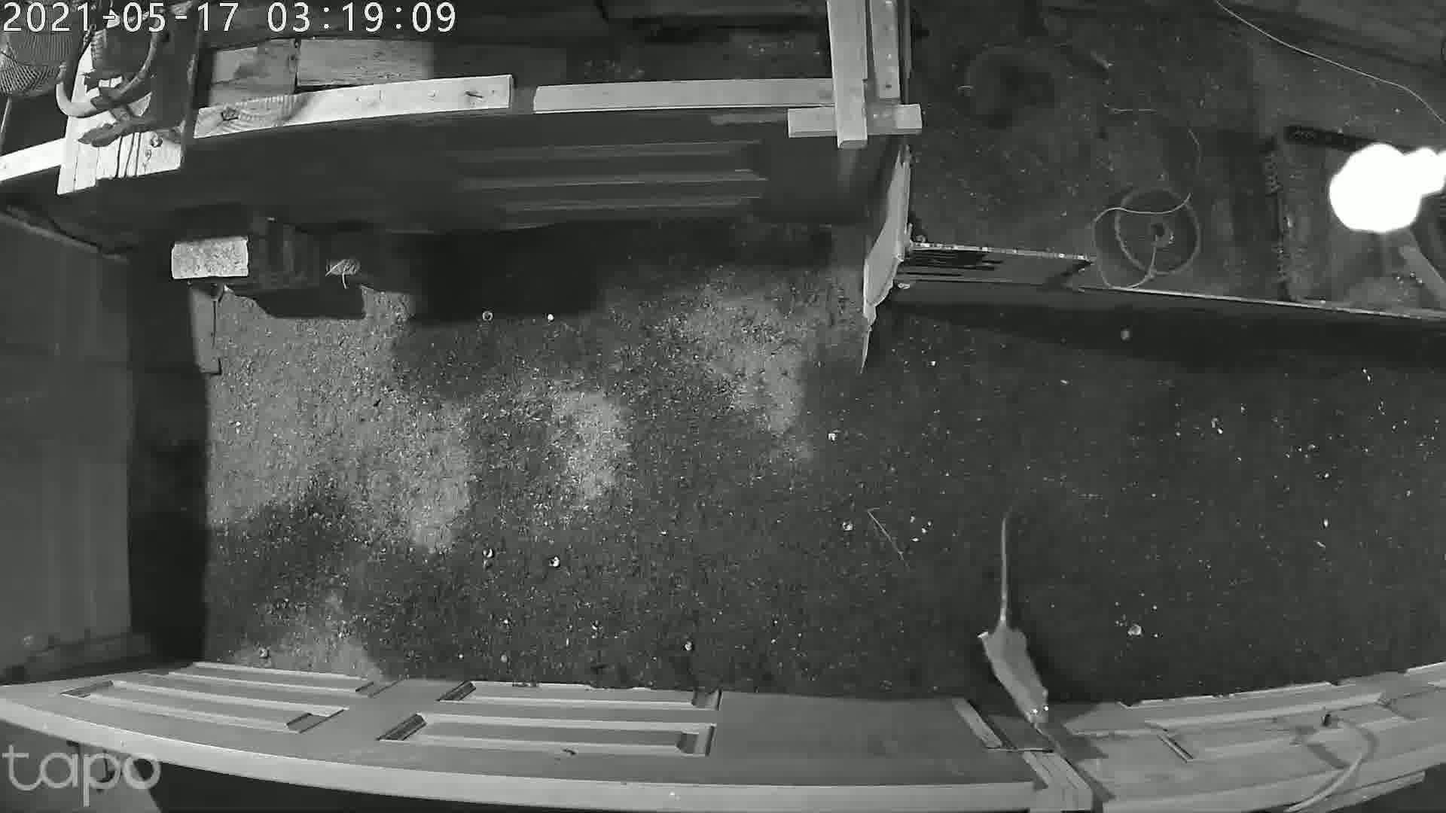rat: (952, 496, 1088, 733)
